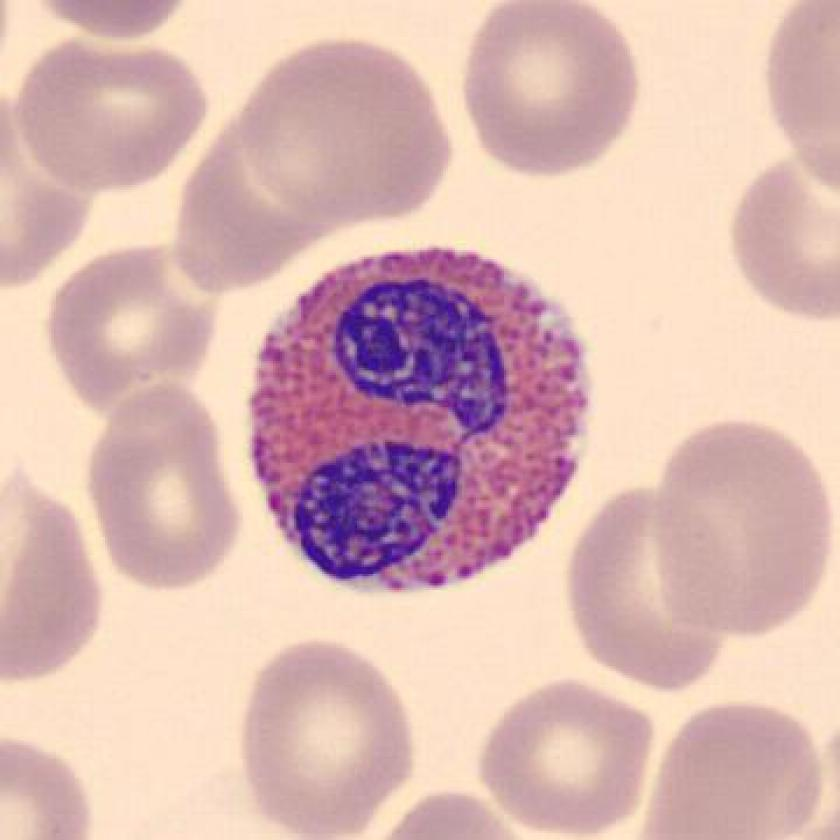eosinophil: (232, 230, 603, 612)
